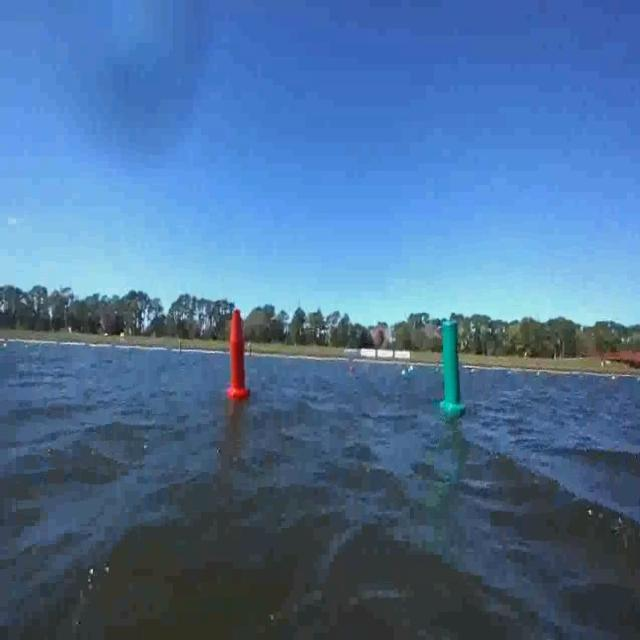green-column-buoy: (440, 321, 468, 418)
red-column-buoy: (228, 307, 250, 401)
